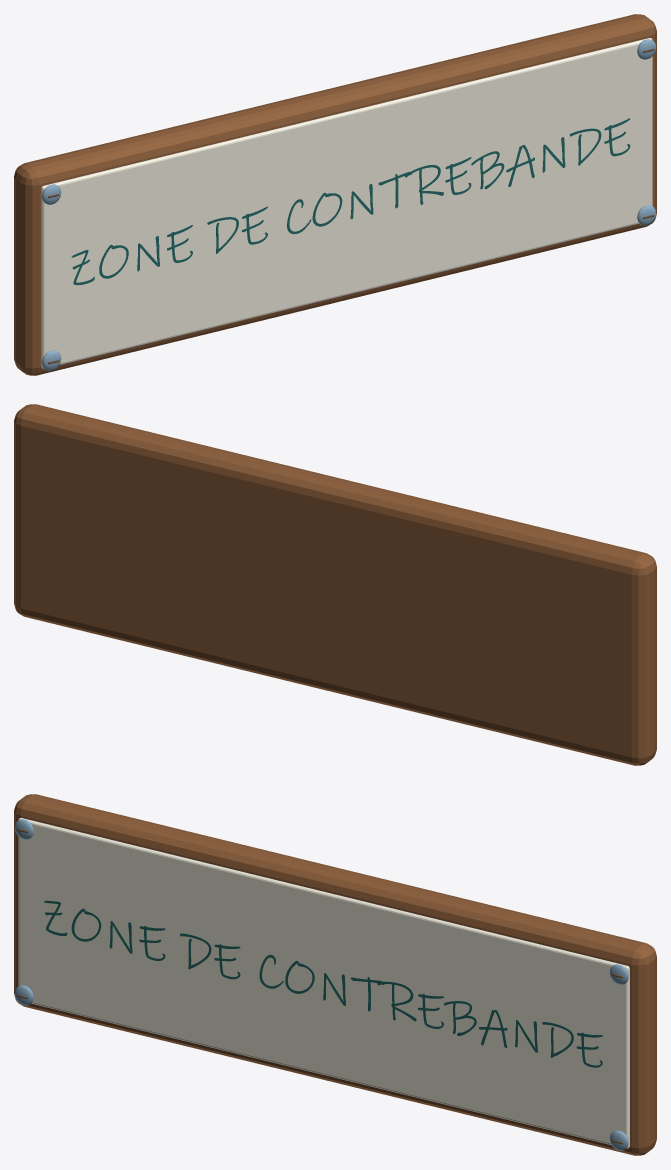
The model's file is contraband_sign.glb.
3 views of the same model, one above another, from view 1: azimuth 30°, elevation 25°; view 2: azimuth 150°, elevation 25°; view 3: azimuth 330°, elevation 25° (orthographic).
Visible parts, largest first — view 1: Sign_cream_face, Sign_timber, Flat_sign; view 2: Sign_timber; view 3: Sign_cream_face, Sign_timber, Flat_sign.
Boxes of the visible parts, x1,y1,x2,y2 form: Sign_cream_face: [41, 38, 652, 368]; Sign_timber: [14, 14, 656, 375]; Flat_sign: [71, 118, 630, 285]; Sign_timber: [14, 404, 656, 765]; Sign_cream_face: [18, 818, 629, 1148]; Sign_timber: [14, 794, 656, 1155]; Flat_sign: [44, 900, 602, 1067].
Bounding box in the file's own units: 0.8 × 0.25 × 0.0554.
